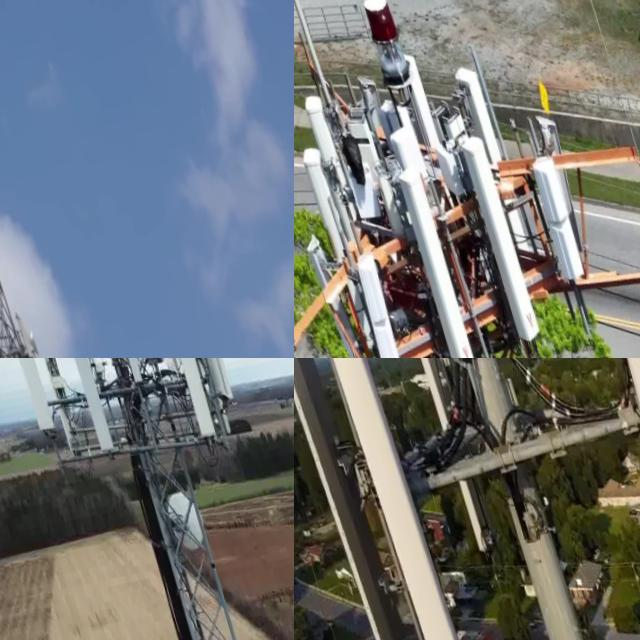GSM Antenna: (320, 358, 457, 640), (294, 358, 415, 640), (453, 120, 547, 348), (393, 358, 495, 552), (388, 155, 481, 358), (522, 136, 595, 288), (340, 241, 411, 358), (298, 225, 359, 358), (40, 358, 118, 459), (295, 132, 354, 265), (135, 358, 226, 441), (447, 44, 504, 164), (296, 80, 349, 192), (0, 358, 56, 436), (17, 358, 75, 418), (177, 358, 238, 400), (10, 305, 34, 358), (101, 358, 147, 381)
Microwave Antenna: (151, 473, 212, 555), (21, 325, 41, 358)
